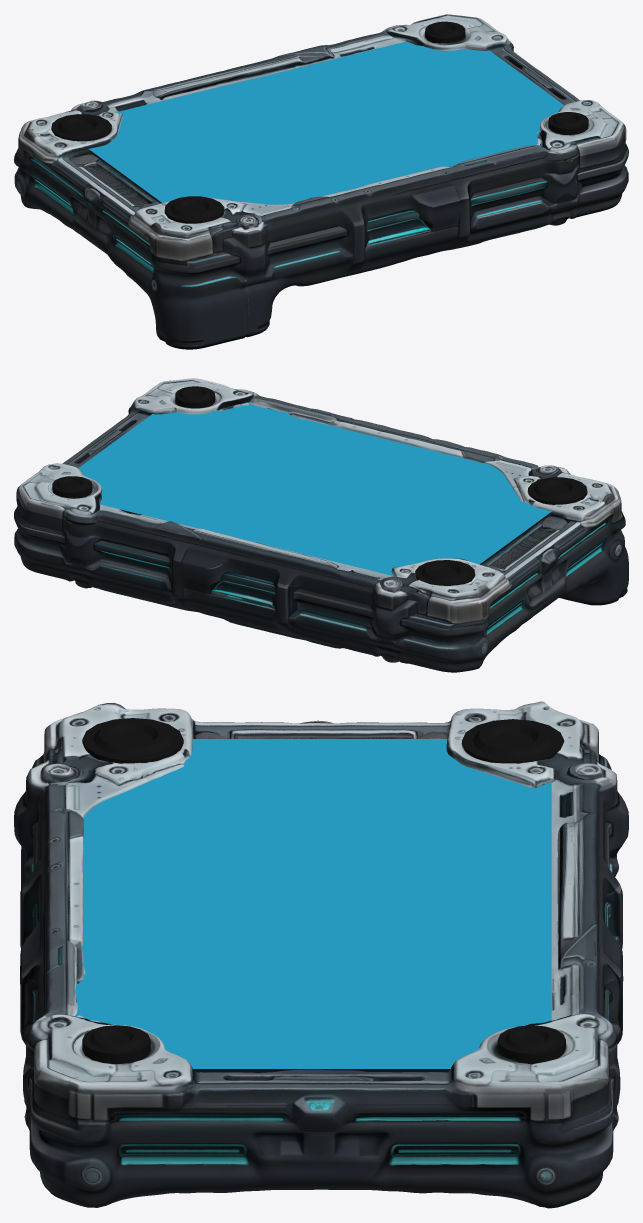
Rendered from VADA Tablet.fbx.
The picture shows the model from 3 angles, top to bottom: view 1: azimuth 30°, elevation 25°; view 2: azimuth 150°, elevation 25°; view 3: azimuth 270°, elevation 25°; orthographic projection. The views are drawn at different scales.
Parts seen in each view (by area): view 1: tripo_node_34f780c3, Screen, Cylinder001; view 2: tripo_node_34f780c3, Screen, Cylinder001; view 3: Screen, tripo_node_34f780c3, Cylinder001, Screen001.
Boxes of the visible parts, x1,y1,x2,y2 form: tripo_node_34f780c3: [14, 14, 628, 349]; Screen: [89, 41, 563, 204]; Cylinder001: [51, 21, 588, 223]; tripo_node_34f780c3: [14, 378, 628, 672]; Screen: [78, 402, 551, 575]; Cylinder001: [52, 386, 587, 585]; Screen: [74, 739, 551, 1068]; tripo_node_34f780c3: [14, 701, 628, 1208]; Cylinder001: [82, 718, 565, 1064]; Screen001: [193, 1069, 449, 1072].
Size of the model in its own units: 5.73 by 1.34 by 3.85.
